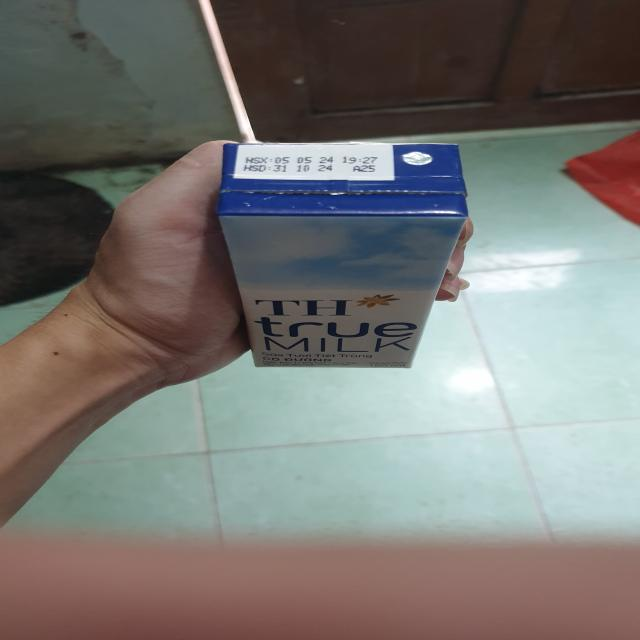TH: (217, 143, 471, 371)
